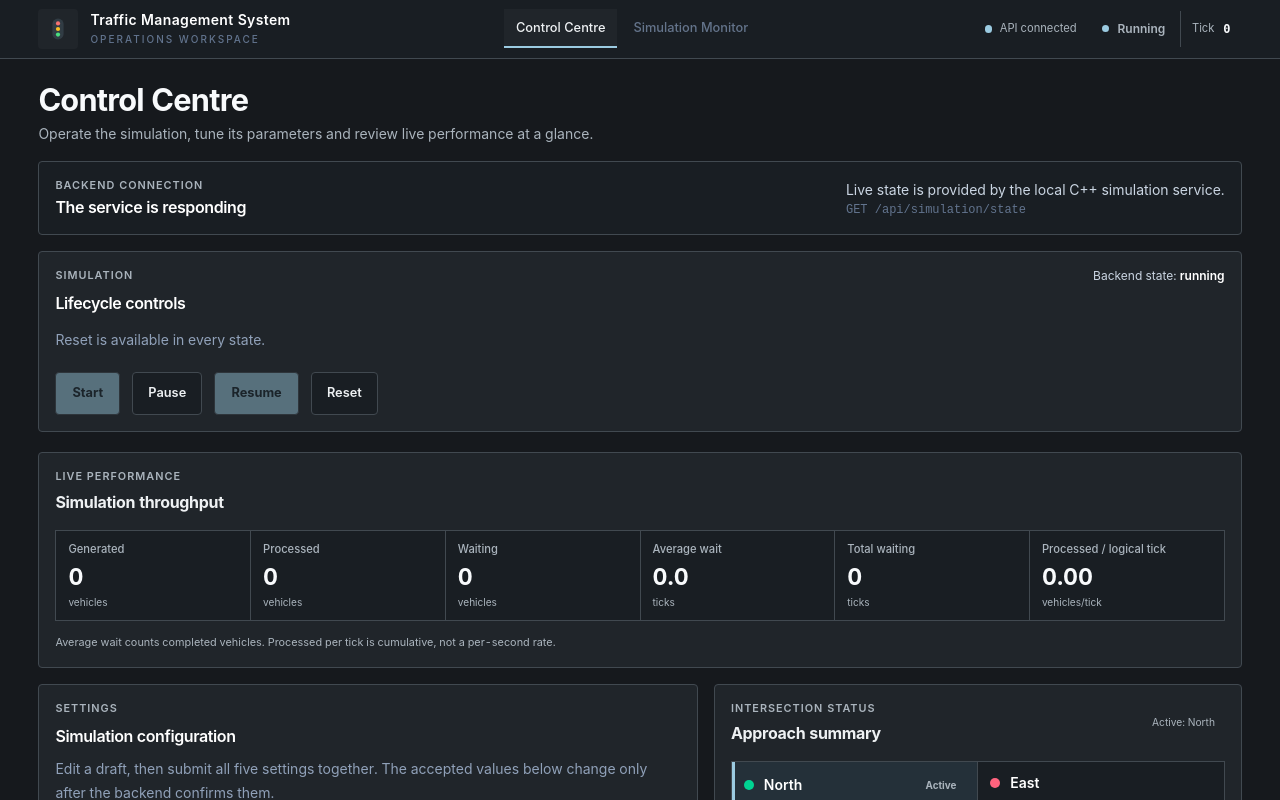
Scenario: simulation controls and configuration › calls pause and refreshes authoritative state
This screenshot has width=1280, height=800.
Expected: the heading "Lifecycle controls" is shown, [55,291,185,316]
Expected: the heading "Simulation configuration" is shown, [55,726,236,746]
Step 1. Click the button "Pause" → (167, 394), box [132,372,202,415]
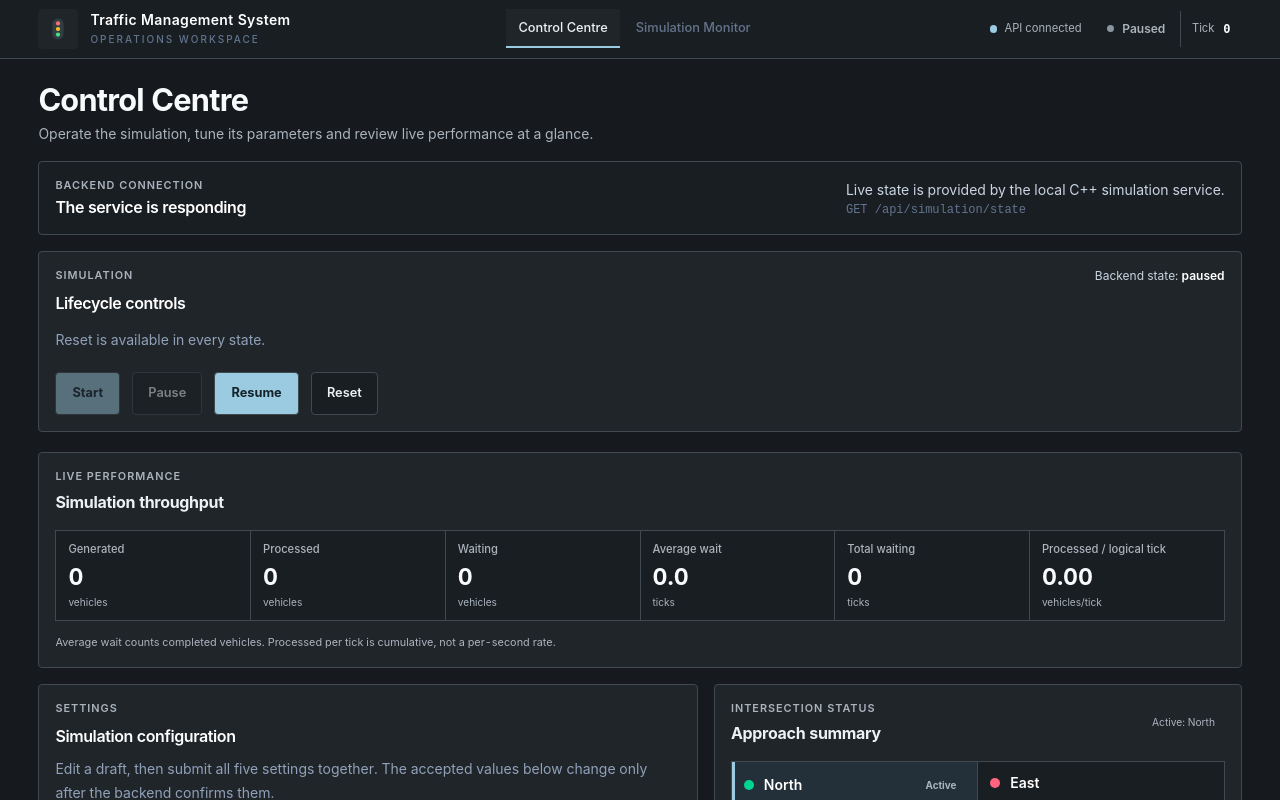
Expected: the element "Lifecycle controls" shows "paused", [1182,268,1225,283]
